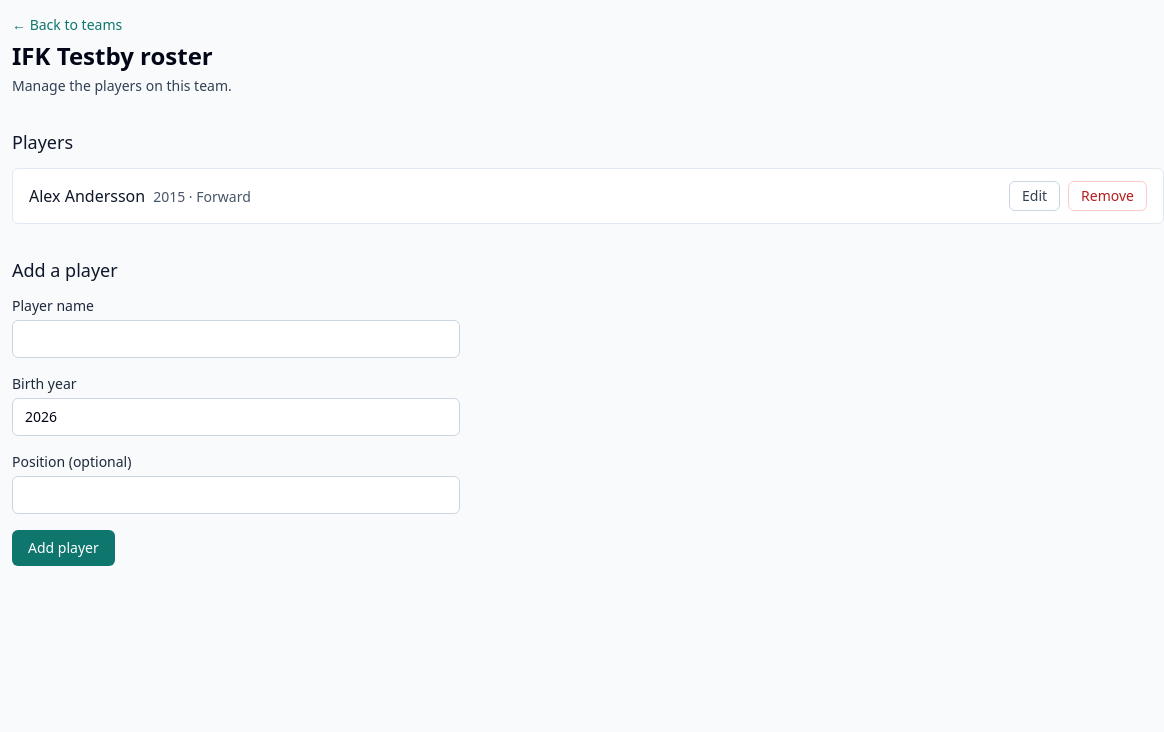
PlayersPage › removes a player
Click the button "Remove".
click(1108, 196)  # box [1068, 181, 1147, 211]
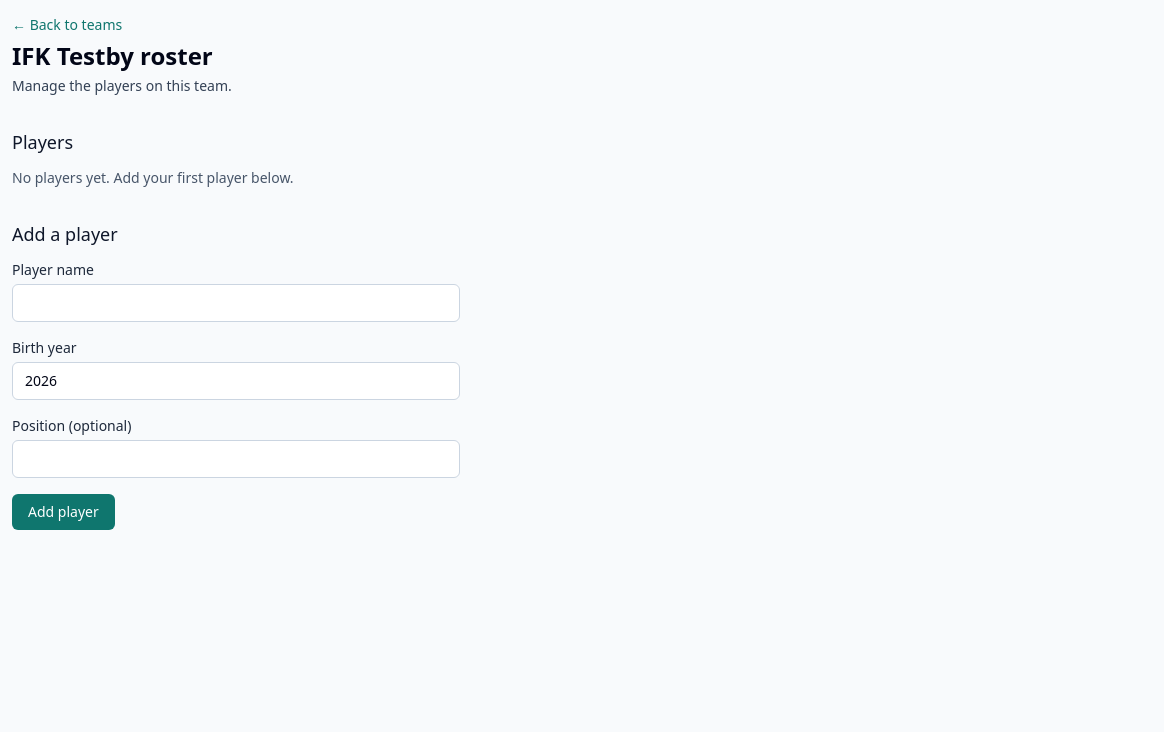
Now the text "No players yet. Add your first player below." is shown, box [12, 168, 294, 187]
